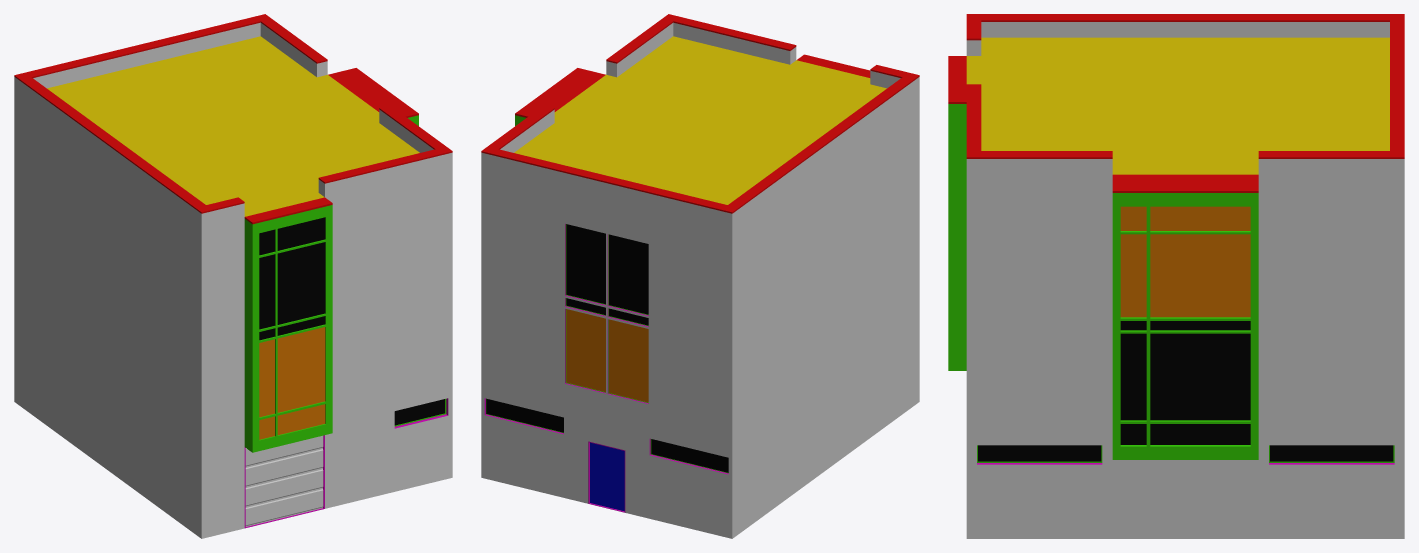
The model's file is M_house4.fbx.
3 renders of one model, left to right at view 1: azimuth 30°, elevation 25°; view 2: azimuth 150°, elevation 25°; view 3: azimuth 270°, elevation 25°, orthographic. The views are drawn at different scales.
Visible parts, largest first — view 1: Plane, Plane.001; view 2: Plane; view 3: Plane.
Boxes of the visible parts, x1=… form: Plane: x1=14, y1=14, x2=452, y2=538; Plane.001: x1=245, y1=435, x2=323, y2=526; Plane: x1=481, y1=14, x2=919, y2=538; Plane: x1=948, y1=14, x2=1404, y2=538.
Bounding box in the file's own units: 192 × 214 × 232.
